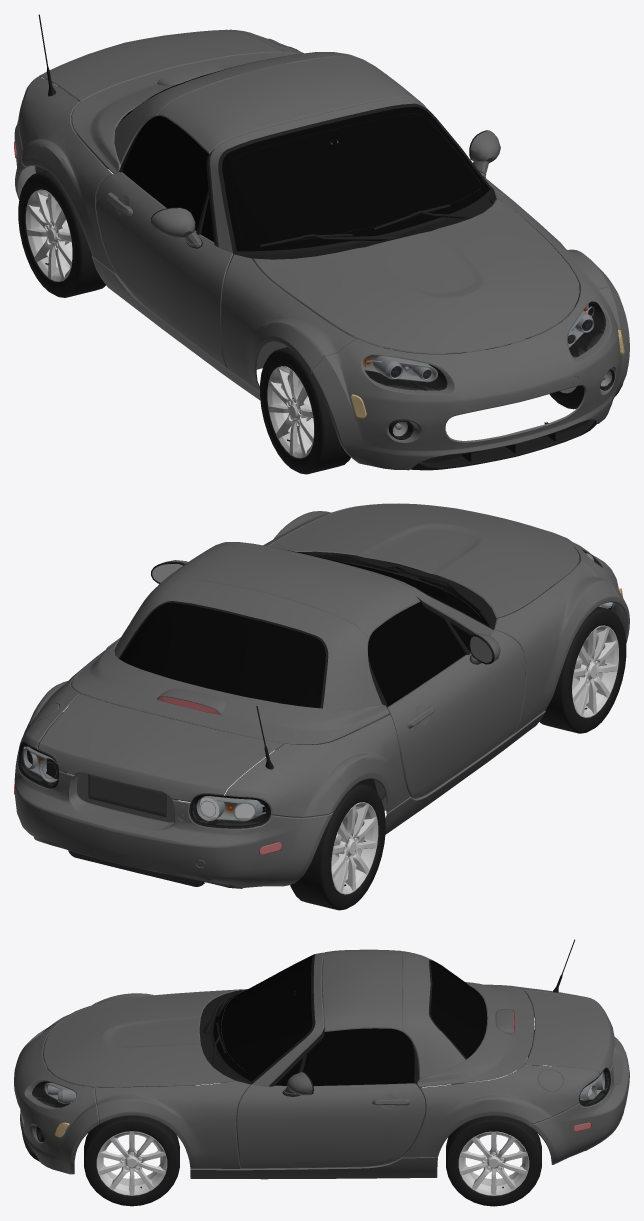
3 renders of one model, top to bottom at view 1: azimuth 30°, elevation 25°; view 2: azimuth 150°, elevation 25°; view 3: azimuth 270°, elevation 25°, orthographic. The views are drawn at different scales.
Parts seen in each view (by area): view 1: miata:lod11, glass:lod0, miata:lod16, miata:lod0, miata:lod12, miata:lod15, miata:lod10, miata:lod14; view 2: miata:lod11, glass:lod0, miata:lod0, miata:lod12, miata:lod16, miata:lod15, miata:lod10, miata:lod13, miata:lod14; view 3: miata:lod11, glass:lod0, miata:lod0, miata:lod12, miata:lod16, miata:lod15, miata:lod10, miata:lod14.
Part boxes in pixels (x1,y1,x2,y2): miata:lod11: (14,29,629,470); glass:lod0: (14,84,624,435); miata:lod16: (35,14,614,470); miata:lod0: (18,170,623,474); miata:lod12: (25,189,576,458); miata:lod15: (120,72,490,251); miata:lod10: (14,79,624,436); miata:lod14: (96,113,580,369); miata:lod11: (14,503,629,888); glass:lod0: (14,543,623,855); miata:lod0: (27,606,626,910); miata:lod12: (67,625,618,894); miata:lod16: (18,550,612,888); miata:lod15: (120,550,492,708); miata:lod10: (14,553,622,854); miata:lod13: (88,774,167,817); miata:lod14: (103,547,580,810); miata:lod11: (14,949,629,1179); glass:lod0: (32,959,609,1137); miata:lod0: (84,1029,541,1206); miata:lod12: (96,1057,529,1195); miata:lod16: (22,939,610,1161); miata:lod15: (213,955,487,1081); miata:lod10: (32,1012,608,1137); miata:lod14: (43,959,425,1168).
Size of what is drawn, in the model's own units: 1.91 by 1.25 by 3.97.
13 materials, 4 textured.
